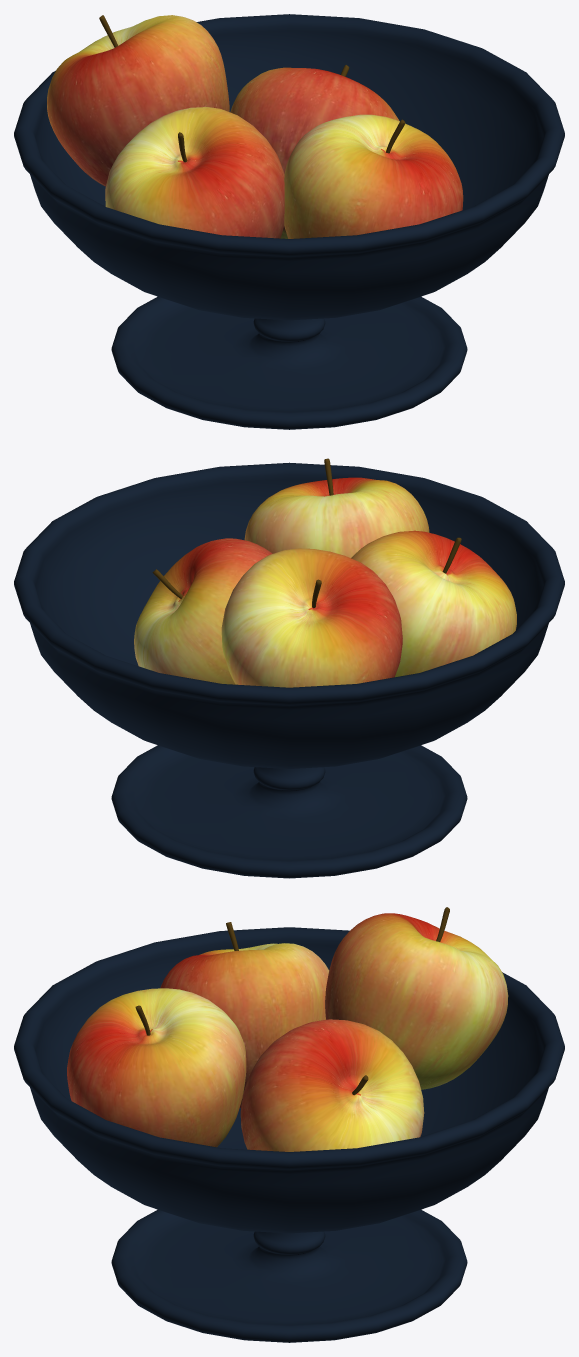
File: apples.obj
3 renders of one model, top to bottom at view 1: azimuth 30°, elevation 25°; view 2: azimuth 150°, elevation 25°; view 3: azimuth 270°, elevation 25°, orthographic.
Parts seen in each view (by area): view 1: jar_Plane, apple2_Tube.002, apple2.003_Tube.005, apple2.001_Tube.001, apple2.002_Tube.004; view 2: jar_Plane, apple2.003_Tube.005, apple2_Tube.002, apple2.002_Tube.004, apple2.001_Tube.001; view 3: jar_Plane, apple2.001_Tube.001, apple2.003_Tube.005, apple2.002_Tube.004, apple2_Tube.002.
Boxes of the visible parts, x1,y1,x2,y2 form: jar_Plane: (14, 14, 564, 429); apple2_Tube.002: (105, 107, 284, 238); apple2.003_Tube.005: (47, 15, 229, 186); apple2.001_Tube.001: (284, 114, 463, 238); apple2.002_Tube.004: (230, 65, 399, 238); jar_Plane: (14, 462, 564, 878); apple2.003_Tube.005: (221, 548, 402, 687); apple2_Tube.002: (351, 530, 516, 677); apple2.002_Tube.004: (134, 538, 272, 684); apple2.001_Tube.001: (244, 458, 429, 557); jar_Plane: (14, 927, 564, 1342); apple2.001_Tube.001: (67, 988, 246, 1147); apple2.003_Tube.005: (325, 907, 508, 1089); apple2.002_Tube.004: (240, 1019, 424, 1151); apple2_Tube.002: (160, 922, 329, 1107).
Size of the model in its own units: 25.73 by 16.02 by 25.73.
Materials: 3 (1 with a texture image).
